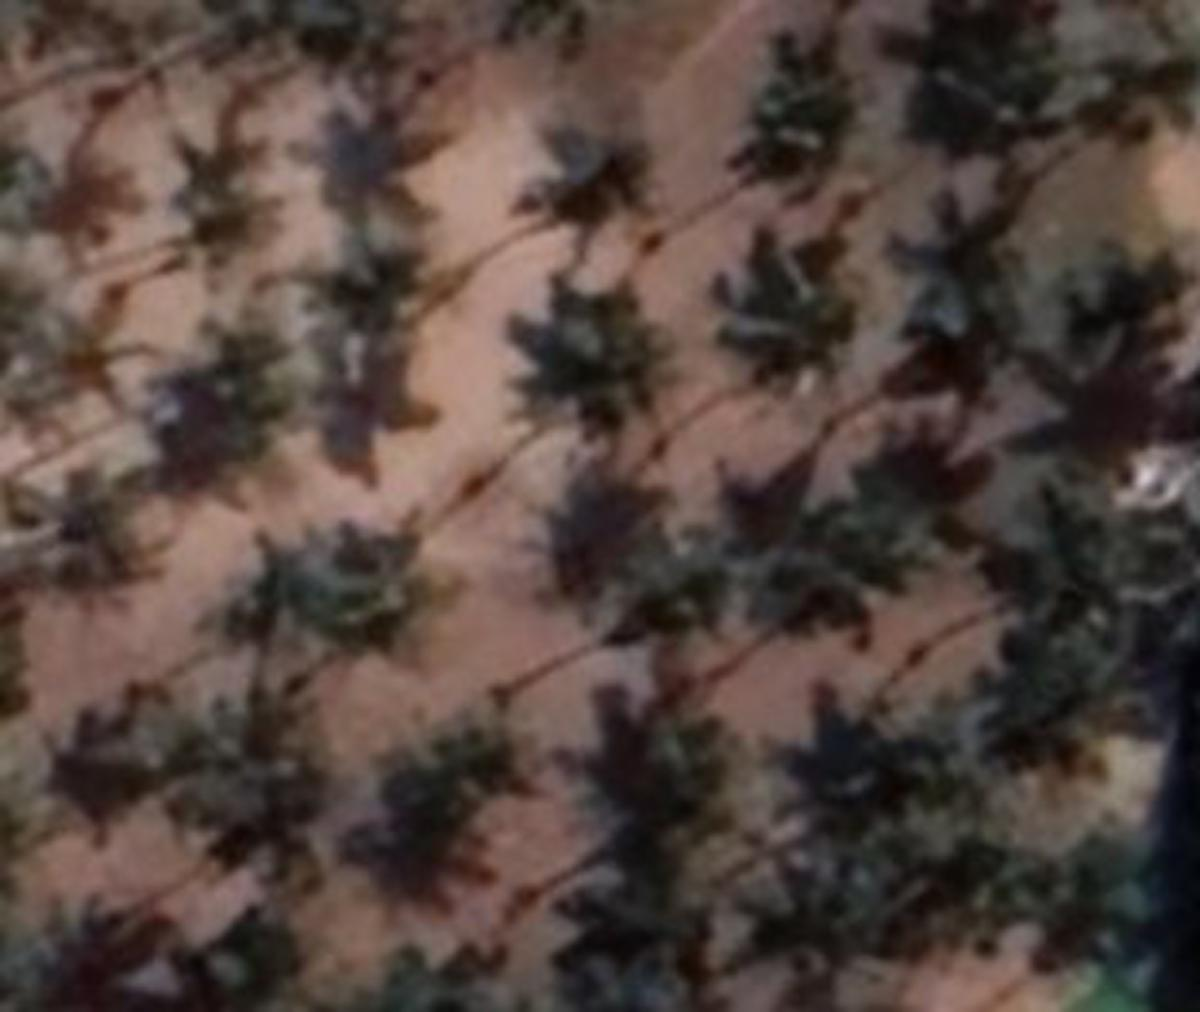coconut: (511, 269, 680, 442), (573, 496, 726, 661), (742, 511, 911, 654), (703, 230, 865, 373), (876, 196, 1019, 346), (200, 677, 342, 815), (730, 38, 869, 180), (576, 692, 730, 815), (526, 123, 676, 246), (265, 527, 400, 650), (315, 246, 434, 377), (846, 457, 973, 569), (423, 704, 546, 815)
